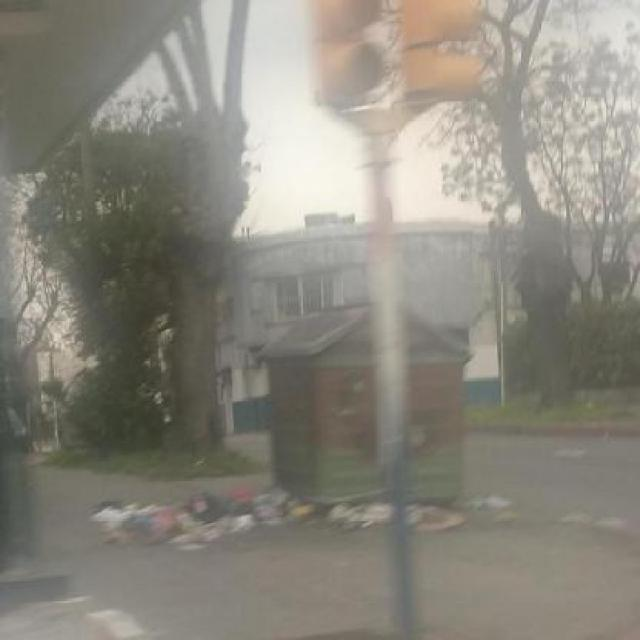garbage: (97, 497, 478, 556)
